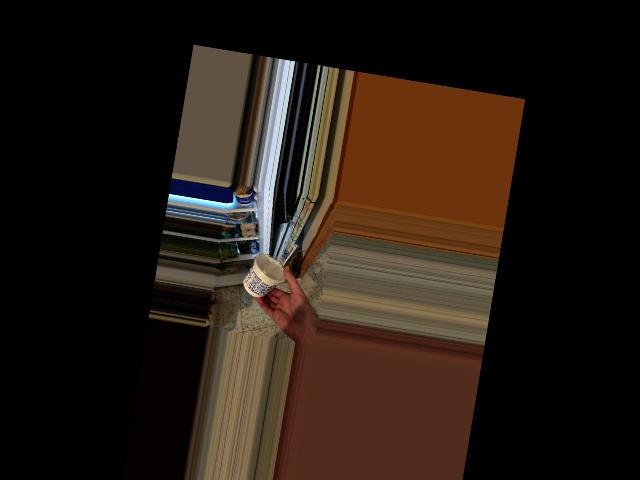cotage: (243, 250, 286, 297)
